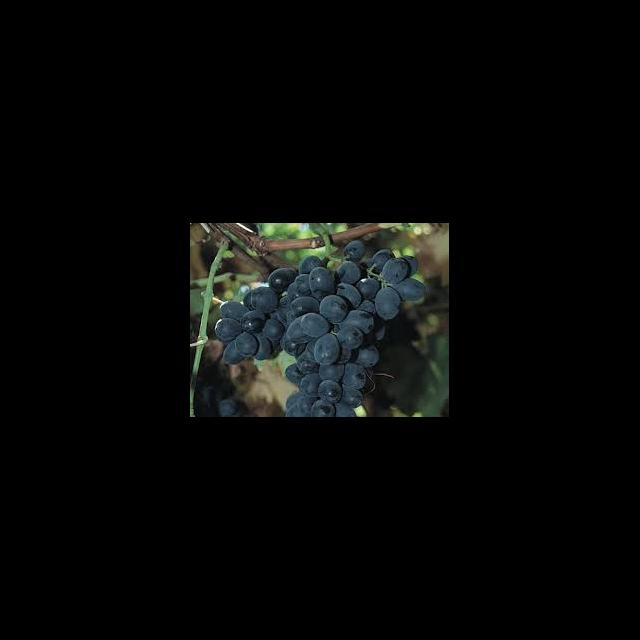grape: (214, 239, 426, 416)
